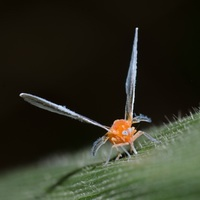insect: (19, 27, 159, 163)
